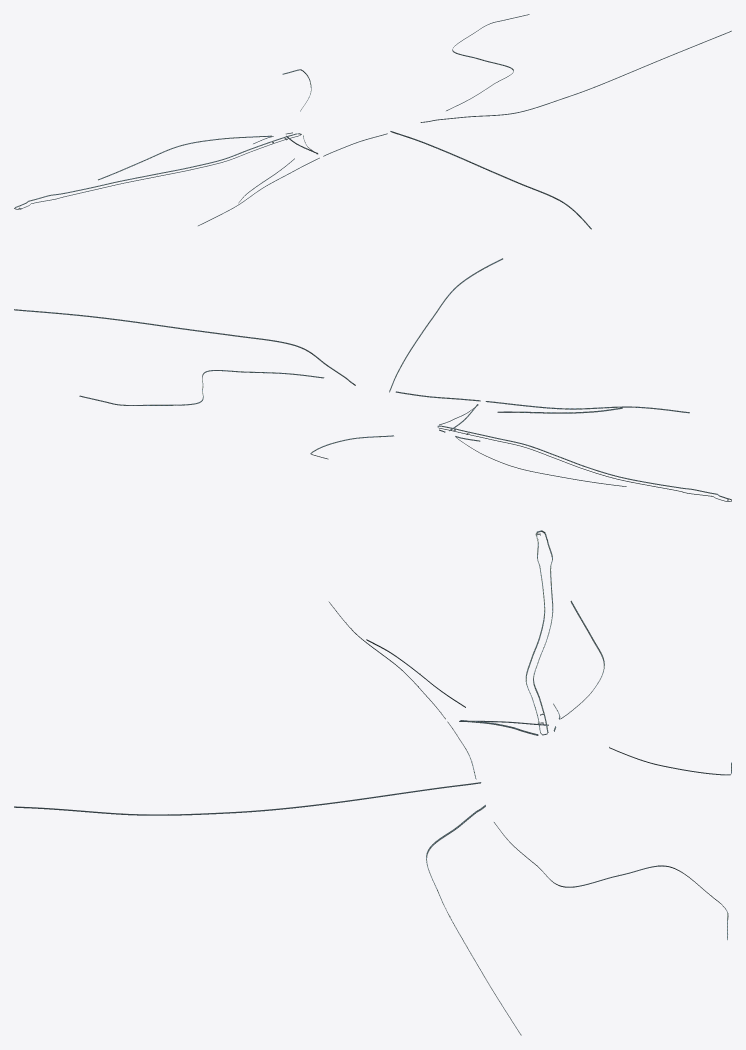
File: taluy_da_che_xanh_chan_doi_noi_do.glb
3 views of the same model, one above another, from view 1: azimuth 30°, elevation 25°; view 2: azimuth 150°, elevation 25°; view 3: azimuth 270°, elevation 25° (orthographic). The views are drawn at different scales.
Parts seen in each view (by area): view 1: Taluy_GreenBlue_Split_Stone_Walls, Taluy_Granite_Copings_And_Drain_Channels; view 2: Taluy_GreenBlue_Split_Stone_Walls, Taluy_Granite_Copings_And_Drain_Channels; view 3: Taluy_GreenBlue_Split_Stone_Walls, Taluy_Granite_Copings_And_Drain_Channels.
Boxes of the visible parts, x1=… form: Taluy_GreenBlue_Split_Stone_Walls: x1=14, y1=14, x2=731, y2=229; Taluy_Granite_Copings_And_Drain_Channels: x1=14, y1=14, x2=729, y2=229; Taluy_GreenBlue_Split_Stone_Walls: x1=14, y1=258, x2=731, y2=501; Taluy_Granite_Copings_And_Drain_Channels: x1=14, y1=258, x2=731, y2=501; Taluy_GreenBlue_Split_Stone_Walls: x1=14, y1=530, x2=731, y2=1035; Taluy_Granite_Copings_And_Drain_Channels: x1=14, y1=530, x2=731, y2=1033.
Bounding box in the file's own units: 5881 × 113 × 3443.
